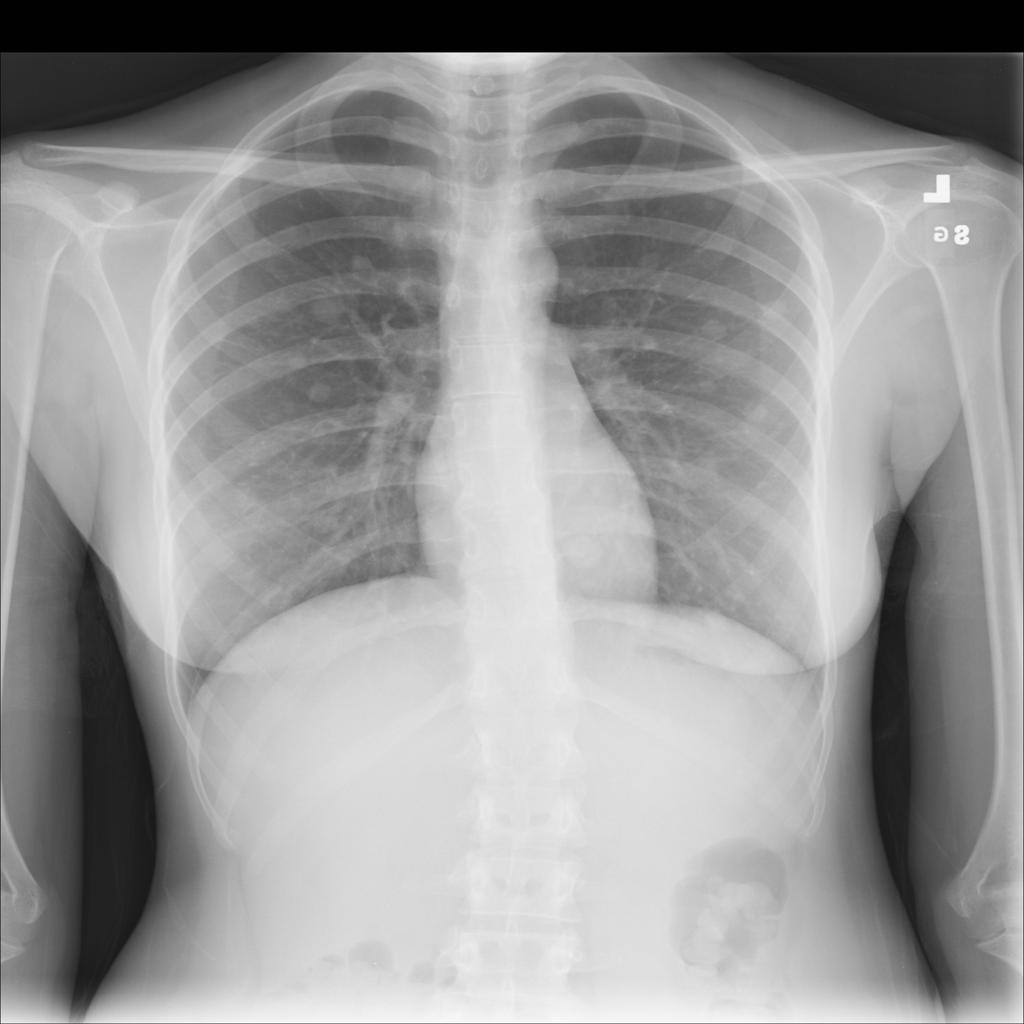nodule: (294, 271, 370, 333), (328, 248, 393, 291), (561, 524, 614, 575), (623, 239, 681, 283), (674, 444, 729, 490), (688, 310, 744, 354), (729, 391, 786, 434), (750, 286, 805, 329), (295, 365, 347, 409), (686, 181, 740, 223)
